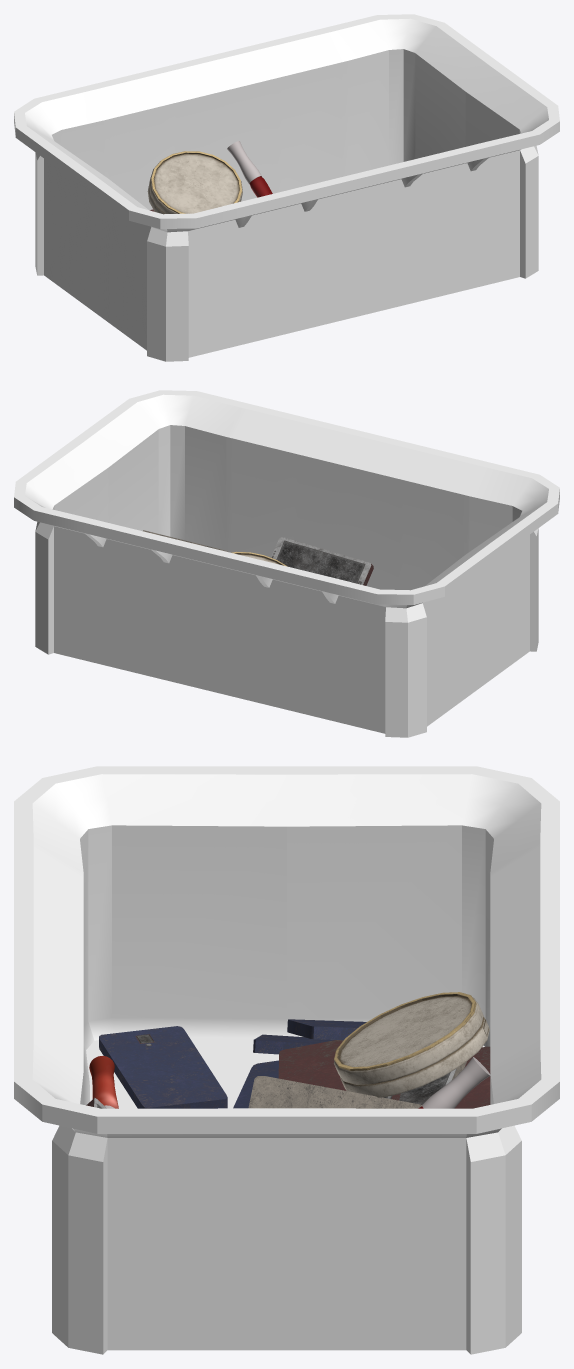
The model's file is M_Stolenprops.fbx.
3 renders of one model, top to bottom at view 1: azimuth 30°, elevation 25°; view 2: azimuth 150°, elevation 25°; view 3: azimuth 270°, elevation 25°, orthographic. The views are drawn at different scales.
Parts seen in each view (by area): view 1: stolenprops_GEO; view 2: stolenprops_GEO; view 3: stolenprops_GEO.
Part boxes in pixels (bbox=[...]): stolenprops_GEO: bbox=[14, 14, 559, 361]; stolenprops_GEO: bbox=[14, 390, 559, 737]; stolenprops_GEO: bbox=[14, 766, 559, 1354].
Size of the model in its own units: 64.76 by 21.92 by 42.65.
9 materials, 9 textured.
